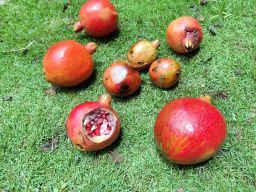pomegranate: (154, 96, 226, 164), (66, 93, 121, 152), (42, 39, 97, 88), (73, 0, 119, 38), (103, 60, 142, 98), (166, 16, 204, 54), (149, 57, 180, 89), (127, 39, 160, 69)
